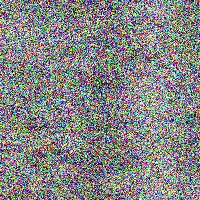rolled-in_scale: (19, 94, 83, 198), (85, 133, 127, 200)
